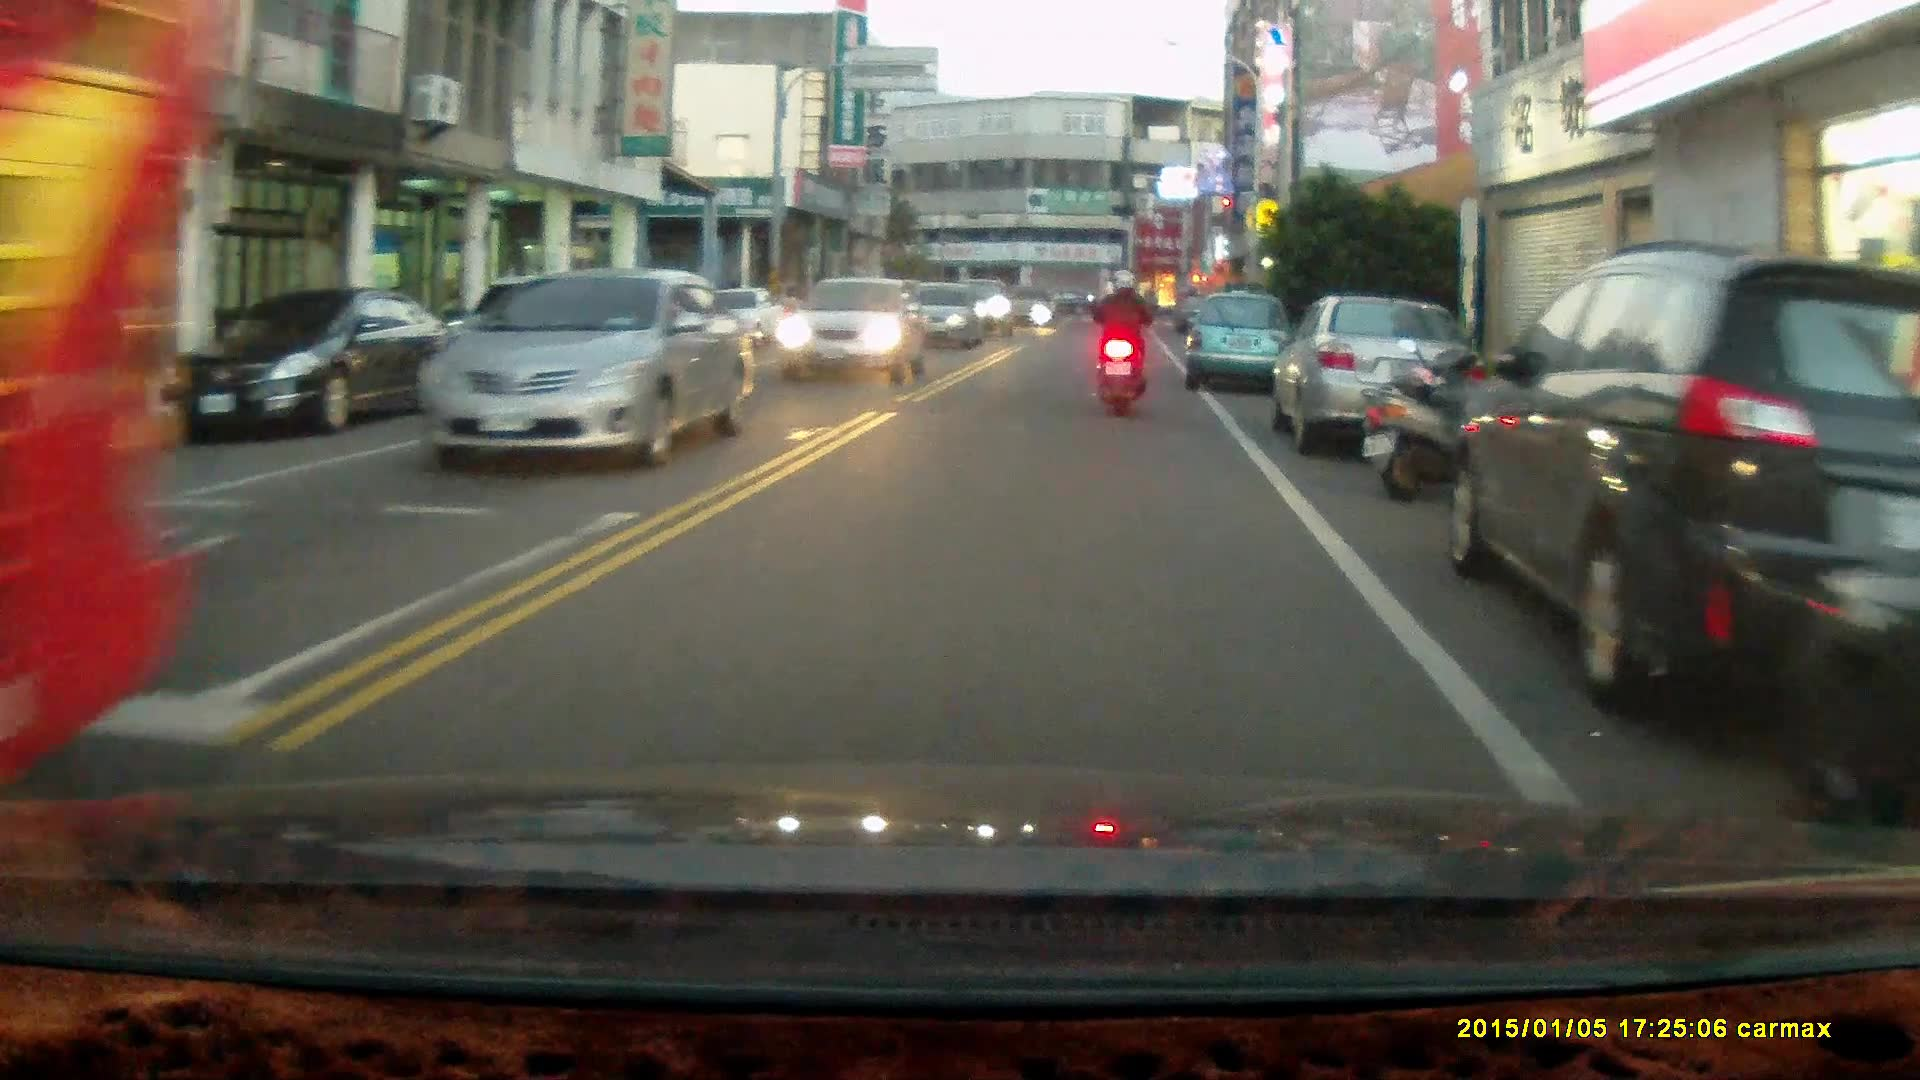rider: (1085, 269, 1149, 421)
vehicle: (1447, 239, 1920, 722), (1, 9, 208, 791), (411, 268, 756, 469), (165, 284, 459, 445), (1269, 294, 1469, 468), (776, 281, 927, 388), (1186, 291, 1297, 396), (897, 284, 982, 354)
